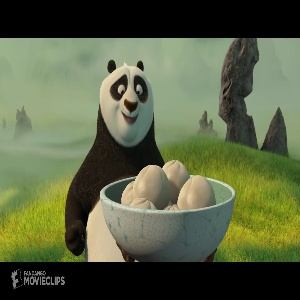po: (39, 53, 193, 259)
